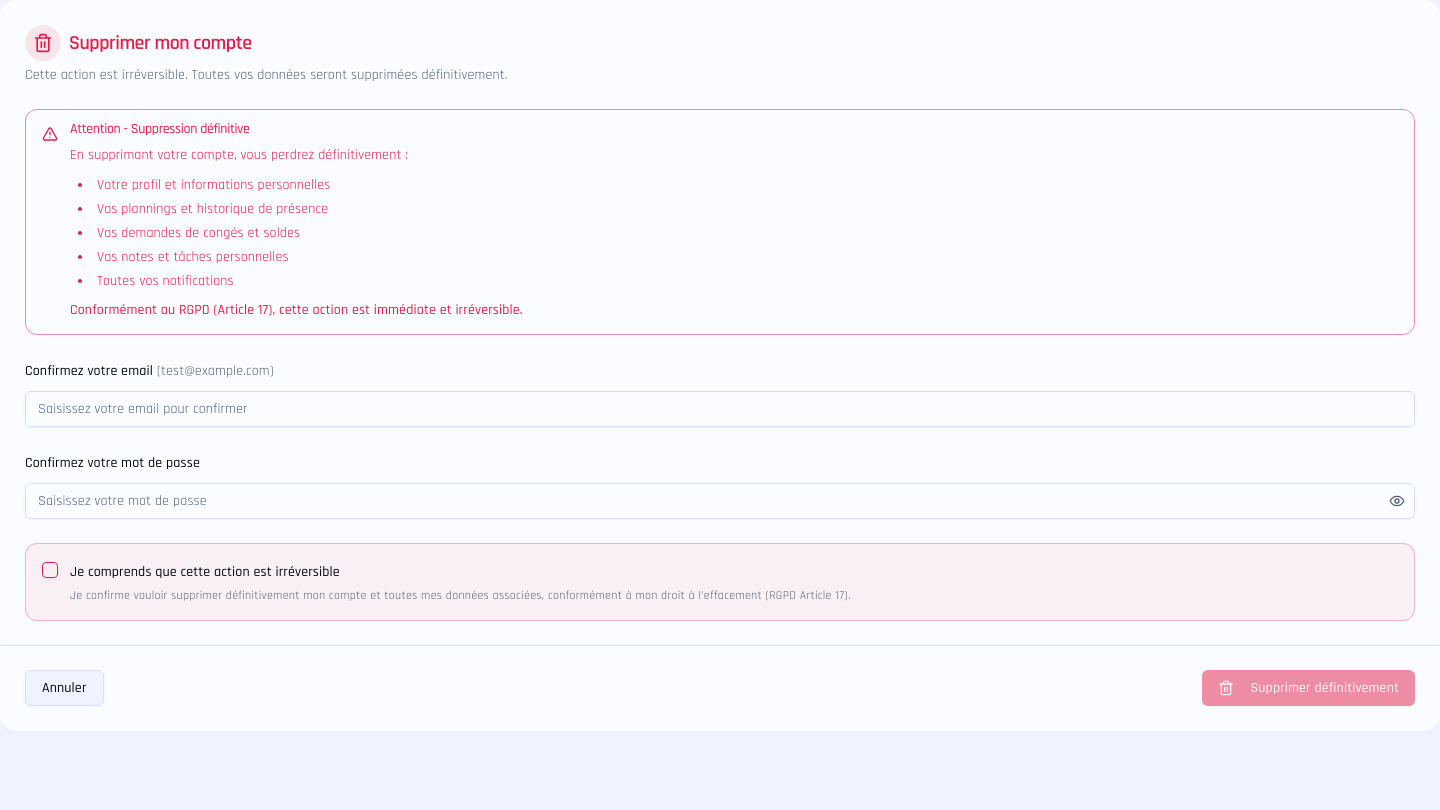
Test: DeleteAccountForm › Activation bouton submit › should enable submit when all fields filled and checkbox checked
This screenshot has width=1440, height=810.
In the field with test id "confirm-email-input": (720, 408) [25,390,1415,426], type "test@example.com"
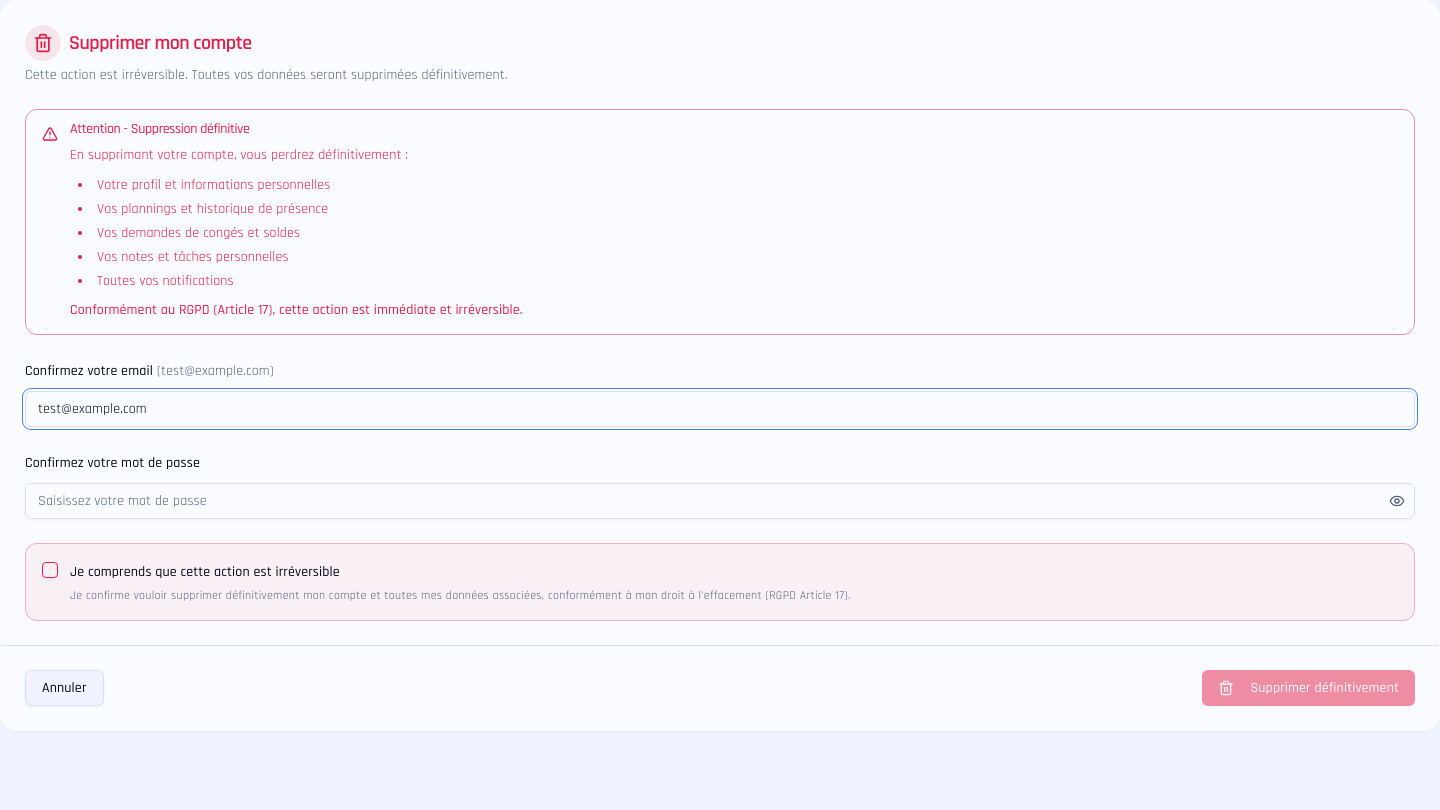
In the password field with test id "password-input": (720, 500) [25,482,1415,518], type "ValidP@ss123"
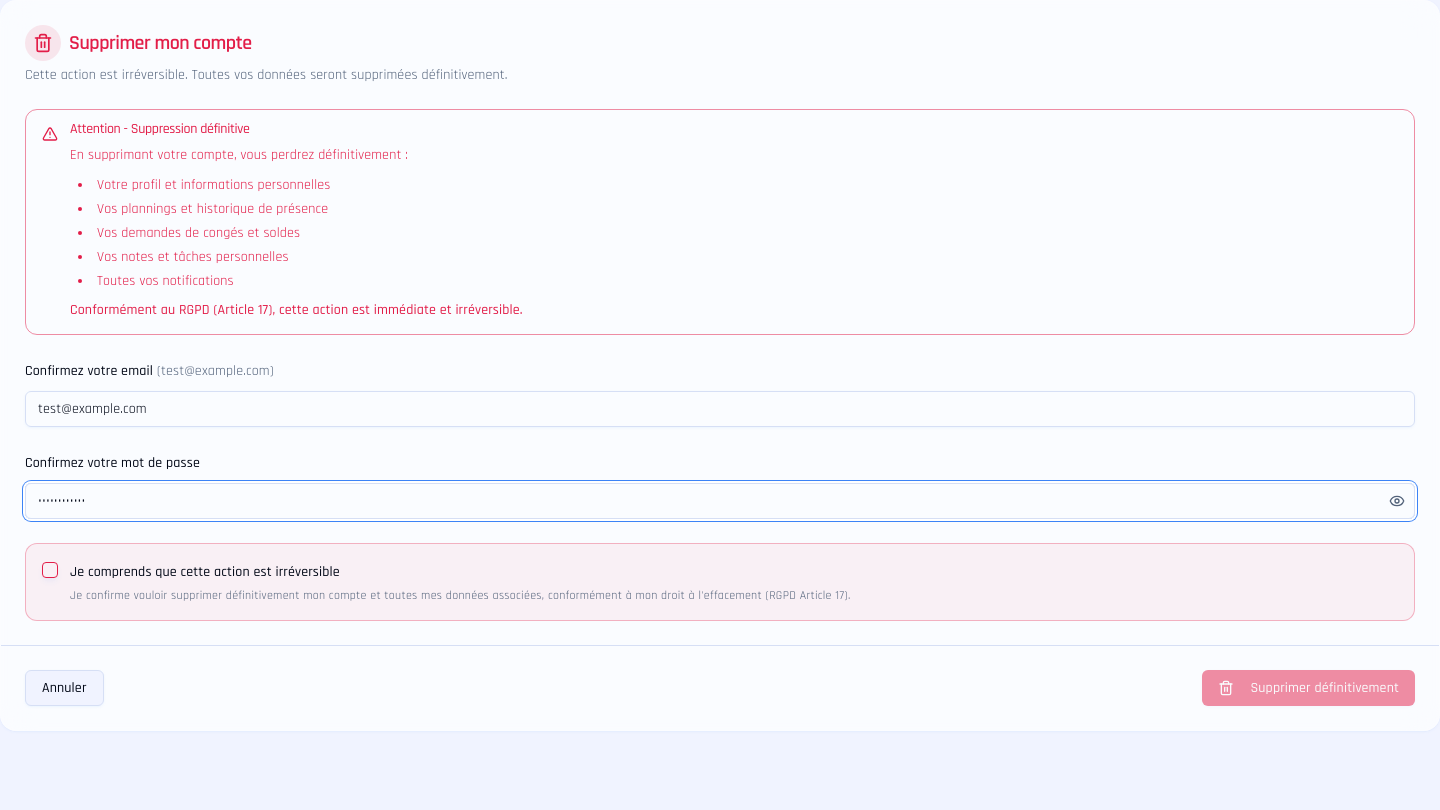
Click the checkbox with test id "confirm-deletion-checkbox": (50, 570) [42,562,58,578]
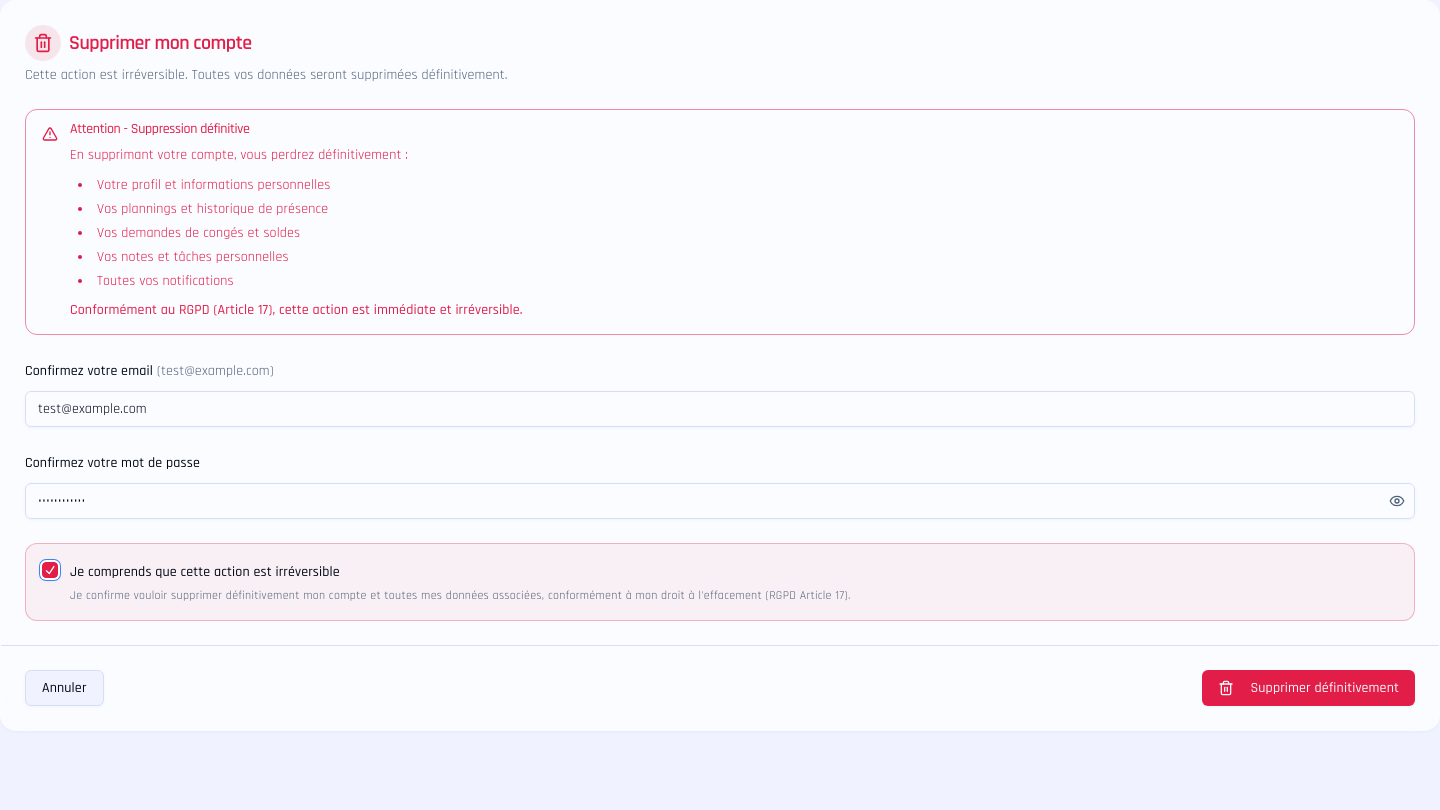
Check: the button with test id "delete-account-button" is enabled, box [1202,670,1415,706]
